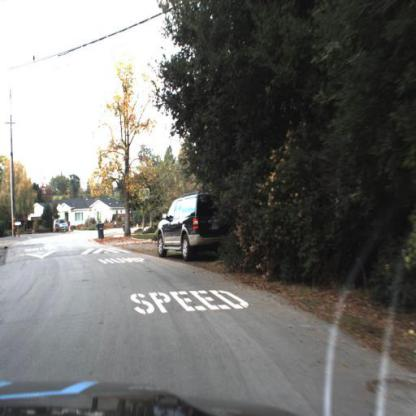car: (154, 190, 237, 267), (52, 213, 72, 237)
